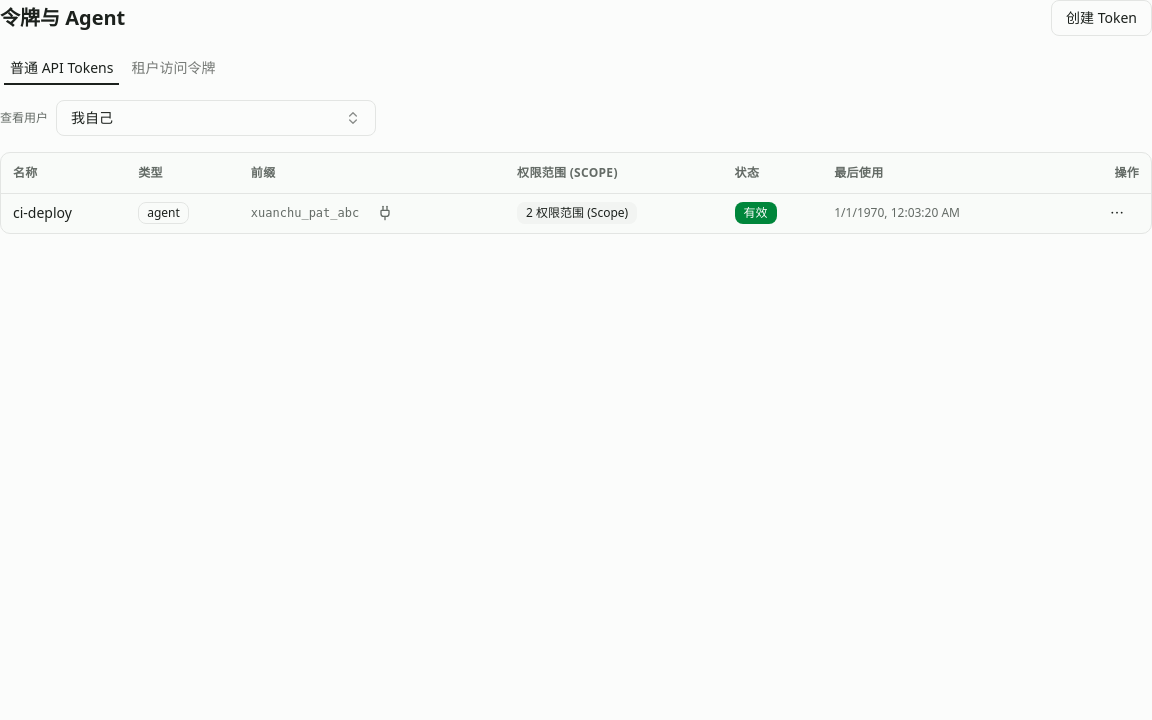
Scenario: TokensPage › shows owner user field in create dialog for admin
The width and height of the screenshot is (1152, 720).
Expected: the text "ci-deploy" is shown, [1, 193, 126, 233]
Click the button "创建 Token" at coordinates (1102, 18), box [1051, 0, 1151, 36]
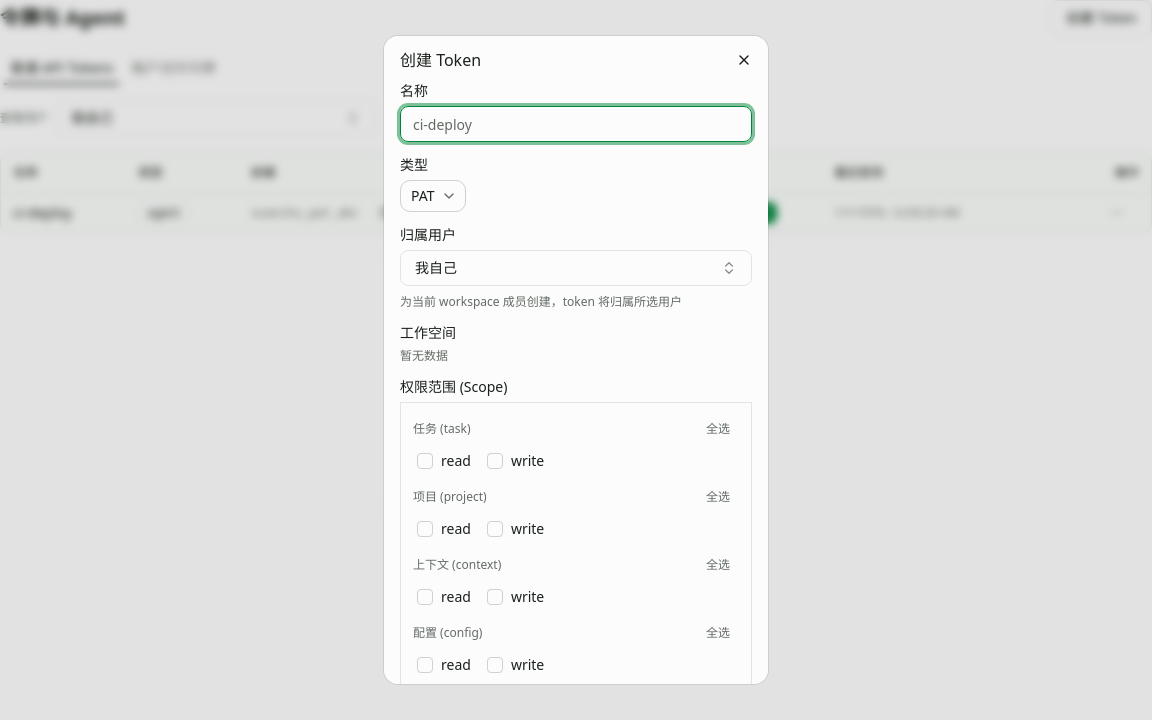
Now the text "归属用户" is shown, box [400, 225, 456, 244]
